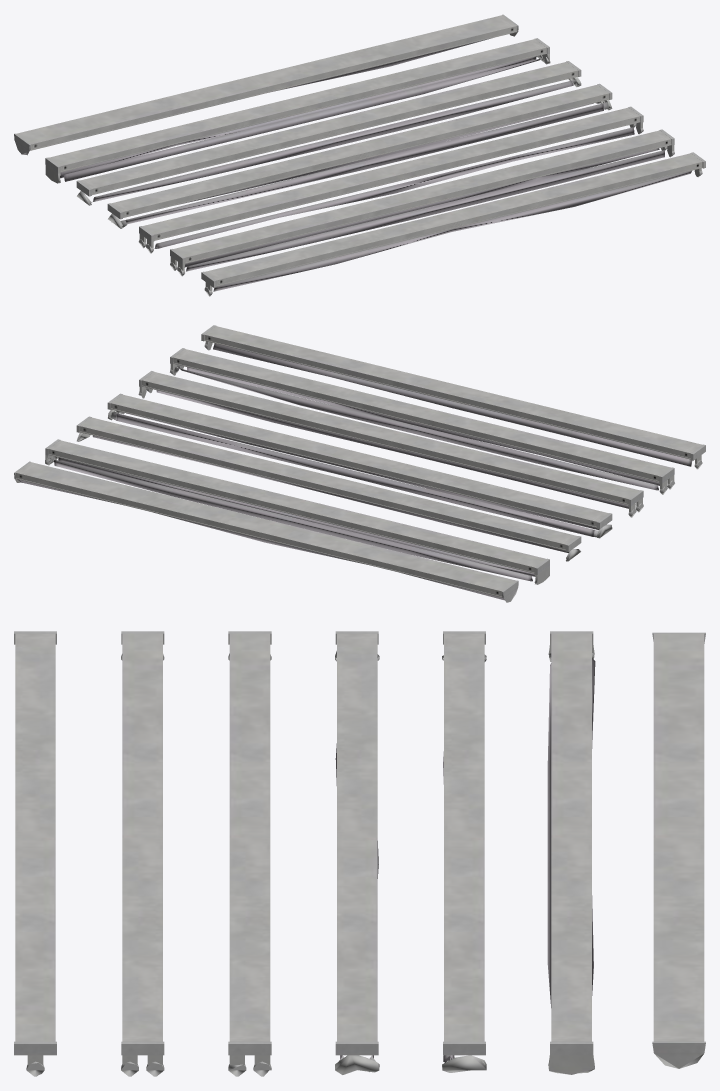
Rendered from mounted_fluorescent_lights.gltf.
3 views of the same model, one above another, from view 1: azimuth 30°, elevation 25°; view 2: azimuth 150°, elevation 25°; view 3: azimuth 270°, elevation 25° (orthographic). The views are drawn at different scales.
Visible parts, largest first — view 1: mounted_fluorescent_lights_b, mounted_fluorescent_lights_f, mounted_fluorescent_lights_d, mounted_fluorescent_lights_e, mounted_fluorescent_lights_c, mounted_fluorescent_lights_a, mounted_fluorescent_lights_g; view 2: mounted_fluorescent_lights_f, mounted_fluorescent_lights_b, mounted_fluorescent_lights_d, mounted_fluorescent_lights_a, mounted_fluorescent_lights_g, mounted_fluorescent_lights_c, mounted_fluorescent_lights_e; view 3: mounted_fluorescent_lights_g, mounted_fluorescent_lights_f, mounted_fluorescent_lights_c, mounted_fluorescent_lights_d, mounted_fluorescent_lights_e, mounted_fluorescent_lights_b, mounted_fluorescent_lights_a.
Boxes of the visible parts, x1,y1,x2,y2 form: mounted_fluorescent_lights_b: (170,129,674,276); mounted_fluorescent_lights_f: (45,38,550,183); mounted_fluorescent_lights_d: (107,83,612,228); mounted_fluorescent_lights_e: (76,61,581,205); mounted_fluorescent_lights_c: (138,106,643,253); mounted_fluorescent_lights_a: (201,152,705,296); mounted_fluorescent_lights_g: (14,14,518,155); mounted_fluorescent_lights_f: (45,439,549,584); mounted_fluorescent_lights_b: (170,348,674,494); mounted_fluorescent_lights_d: (107,393,612,538); mounted_fluorescent_lights_a: (201,325,705,469); mounted_fluorescent_lights_g: (14,461,518,602); mounted_fluorescent_lights_c: (138,371,643,517); mounted_fluorescent_lights_e: (76,416,581,561); mounted_fluorescent_lights_g: (652,632,705,1068); mounted_fluorescent_lights_f: (547,631,595,1074); mounted_fluorescent_lights_c: (228,631,271,1076); mounted_fluorescent_lights_d: (335,631,379,1074); mounted_fluorescent_lights_e: (442,631,486,1072); mounted_fluorescent_lights_b: (121,631,164,1076); mounted_fluorescent_lights_a: (14,631,56,1076).
Size of the model in its own units: 0.9122 by 0.0351 by 0.6454.
Materials: 2 (2 with a texture image).
